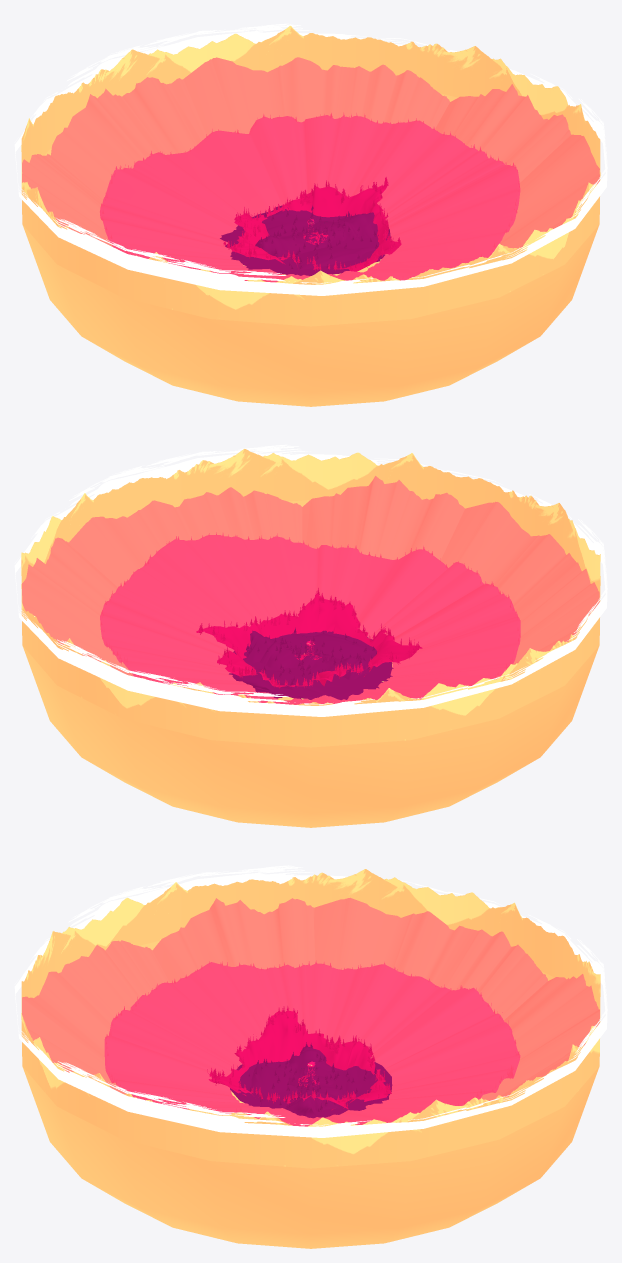
3 views of the same model, one above another, from view 1: azimuth 30°, elevation 25°; view 2: azimuth 150°, elevation 25°; view 3: azimuth 270°, elevation 25° (orthographic).
Parts seen in each view (by area): view 1: Object_7, Object_3, Object_4; view 2: Object_7, Object_3, Object_4; view 3: Object_7, Object_3, Object_4.
Boxes of the visible parts, box(x1,y1,x2,y2) form: Object_7: box(22, 57, 599, 406); Object_3: box(14, 23, 607, 326); Object_4: box(260, 206, 377, 268); Object_7: box(22, 476, 599, 827); Object_3: box(14, 444, 607, 747); Object_4: box(246, 628, 376, 684); Object_7: box(22, 897, 599, 1248); Object_3: box(14, 865, 607, 1168); Object_4: box(248, 1043, 376, 1111).
Bounding box in the file's own units: 3267 × 1327 × 3239.
Materials: 1 (1 with a texture image).
